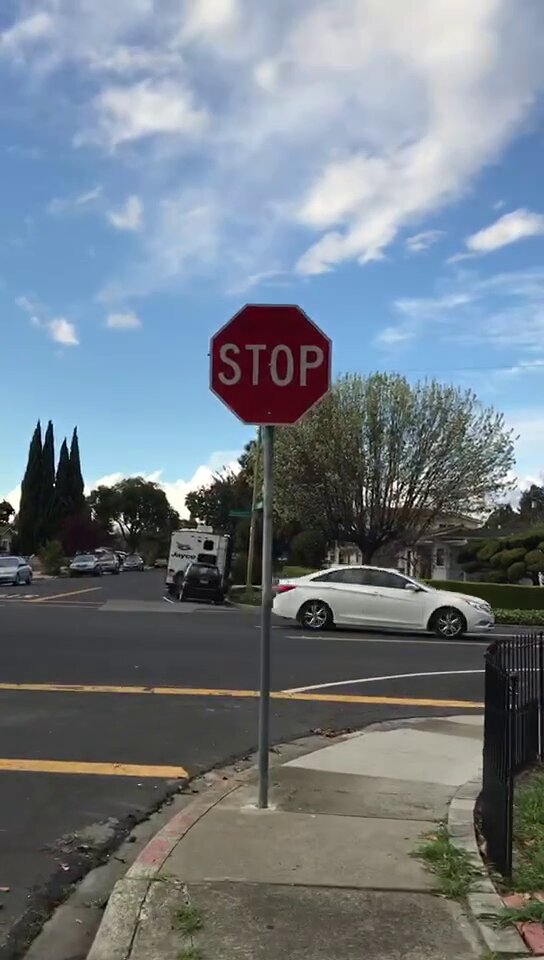stop_sign: (213, 306, 331, 423)
